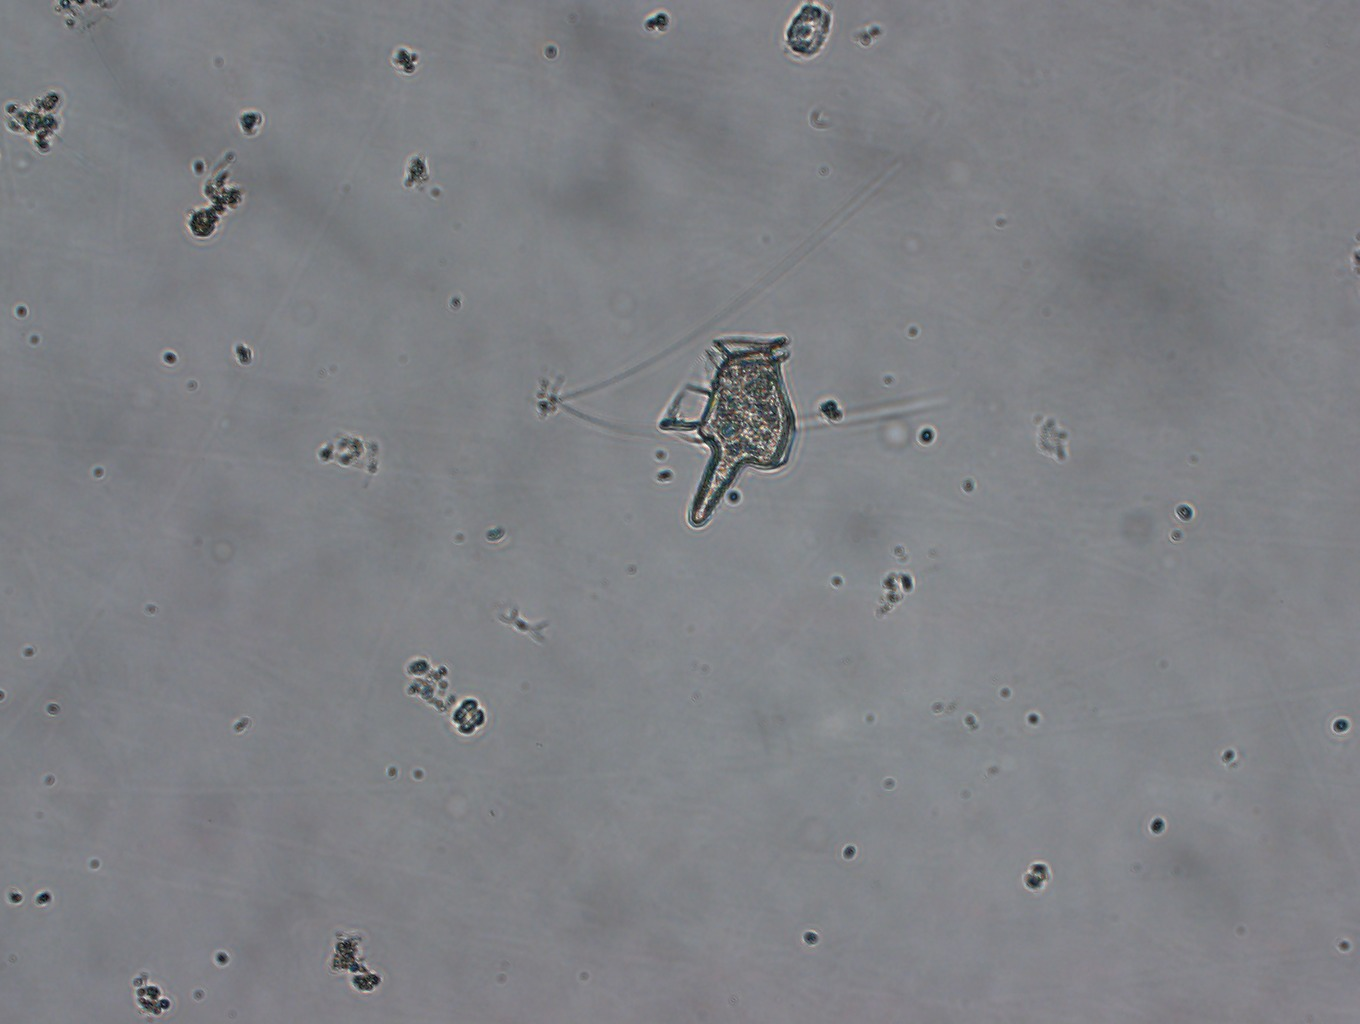dinophysis caudata: (655, 335, 801, 531)
